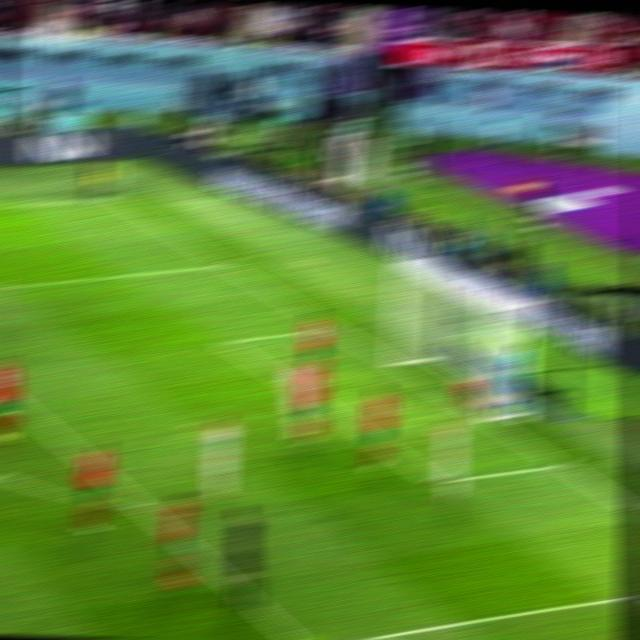bigarea_bottom_inner: (289, 637, 324, 640)
bigarea_top_outter: (210, 254, 239, 275)
bottom_arc_area_intersection: (117, 490, 157, 521)
corner: (101, 192, 126, 205)
smallarea_bottom_inner: (423, 468, 449, 496)
smallarea_bottom_outter: (547, 456, 575, 477)
smallarea_top_inner: (213, 327, 239, 356)
smallarea_top_outter: (320, 320, 345, 339)
